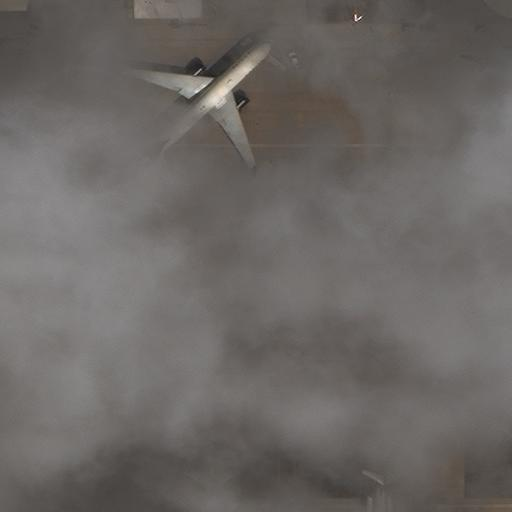Large Civil Transport: (125, 38, 275, 170)
